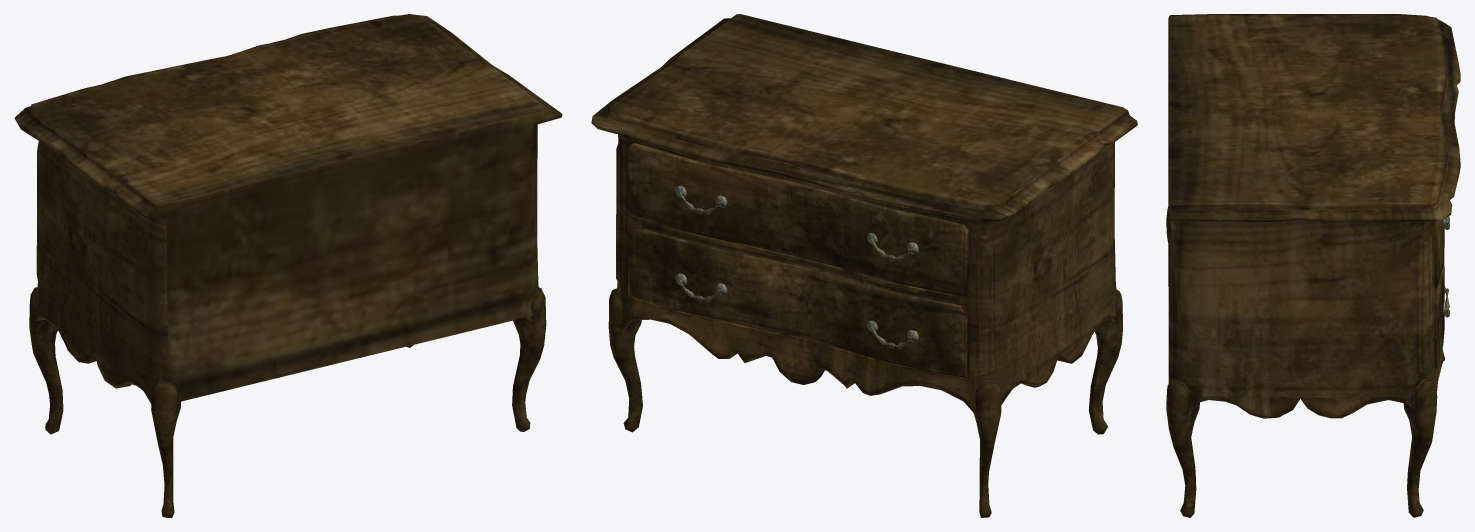
File: AEG228_085-transformed.glb
3 views of the same model, side by side, from view 1: azimuth 30°, elevation 25°; view 2: azimuth 150°, elevation 25°; view 3: azimuth 270°, elevation 25° (orthographic).
Parts seen in each view (by area): view 1: default; view 2: default; view 3: default.
Part boxes in pixels (x1,y1,x2,y2): default: (14,14,562,517); default: (591,14,1137,517); default: (1166,14,1460,517).
Bounding box in the file's own units: 1.76 × 1.3 × 1.08.
Materials: 1 (1 with a texture image).
